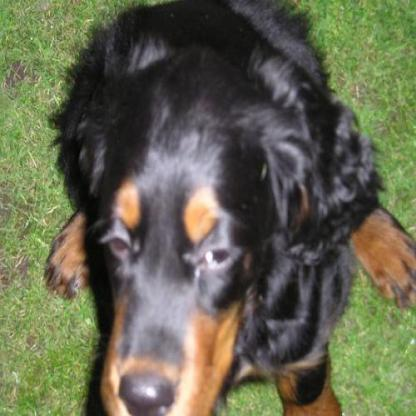Gordon_setter: (41, 0, 414, 414)
